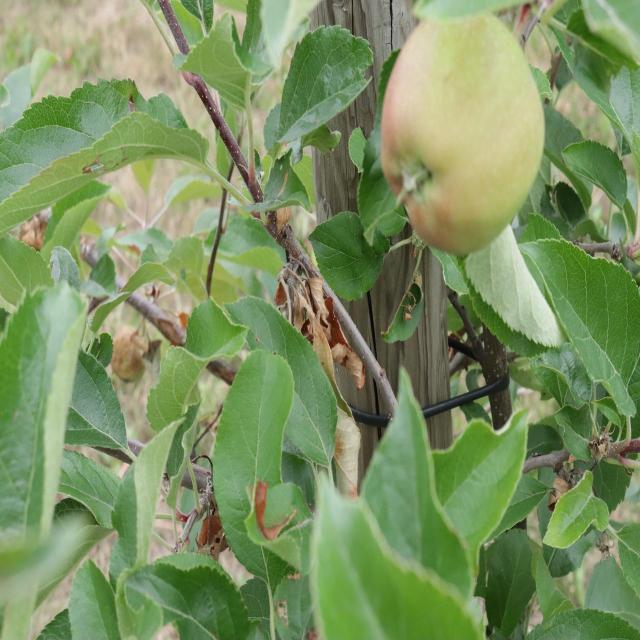-FireBlight-: (274, 248, 369, 378), (112, 304, 172, 381), (244, 484, 294, 540), (333, 400, 357, 491)
